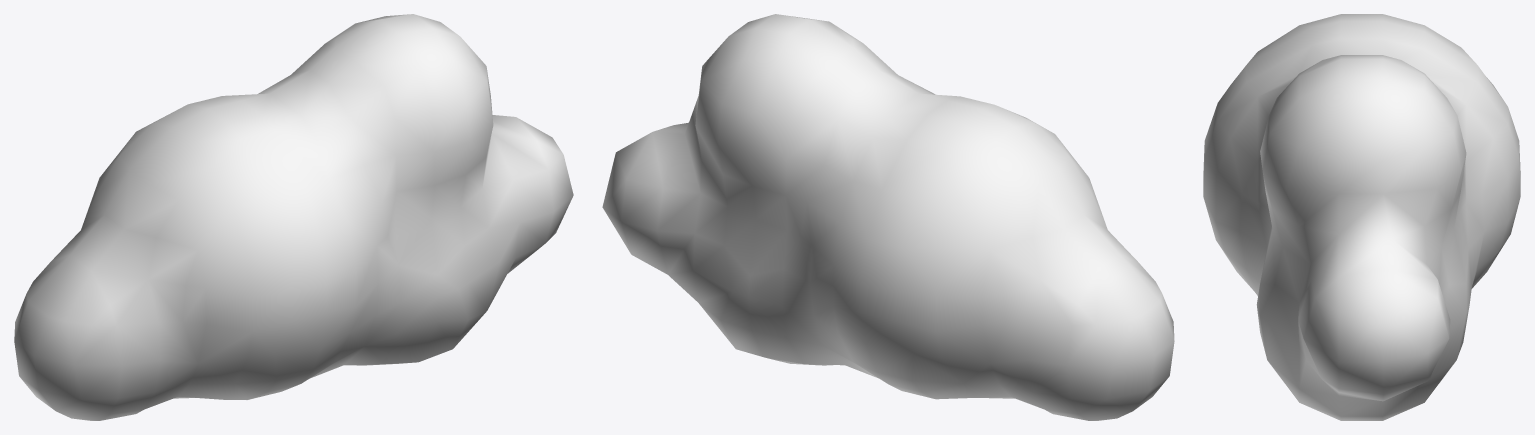
The model's file is Cloud_01.fbx.
3 renders of one model, left to right at view 1: azimuth 30°, elevation 25°; view 2: azimuth 150°, elevation 25°; view 3: azimuth 270°, elevation 25°, orthographic. The views are drawn at different scales.
Parts seen in each view (by area): view 1: Cloud_01; view 2: Cloud_01; view 3: Cloud_01.
Part boxes in pixels (x1=…): Cloud_01: x1=14, y1=14, x2=573, y2=420; Cloud_01: x1=602, y1=14, x2=1174, y2=420; Cloud_01: x1=1203, y1=14, x2=1520, y2=420.
Bounding box in the file's own units: 457 × 263 × 218.
